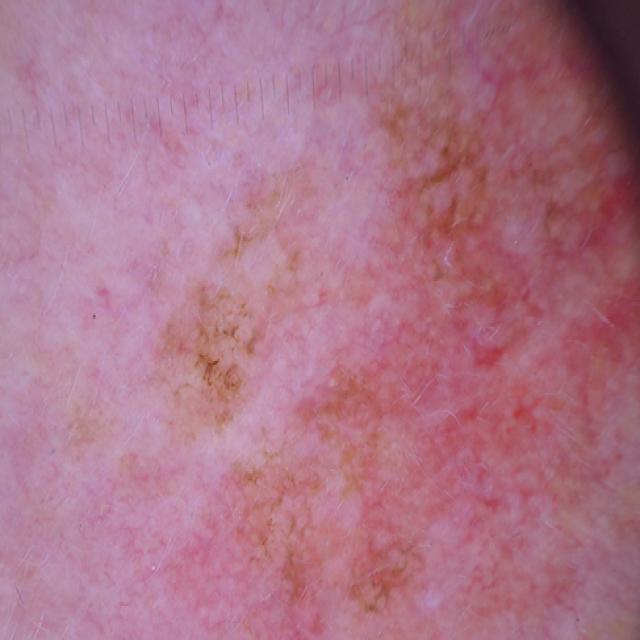Keratosis: (387, 135, 640, 494), (163, 456, 519, 640), (159, 258, 302, 443)
